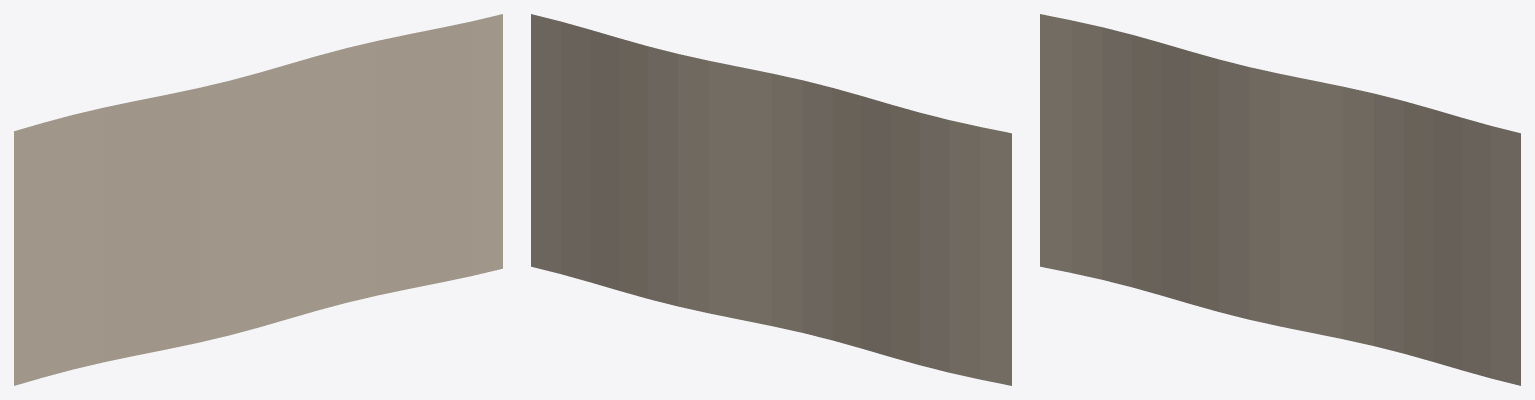
File: muro_LOD2.glb
3 views of the same model, side by side, from view 1: azimuth 30°, elevation 25°; view 2: azimuth 150°, elevation 25°; view 3: azimuth 330°, elevation 25° (orthographic).
Visible parts, largest first — view 1: muro_LOD2; view 2: muro_LOD2; view 3: muro_LOD2.
Part boxes in pixels (<box>): muro_LOD2: <box>14,14,502,385</box>; muro_LOD2: <box>531,14,1011,385</box>; muro_LOD2: <box>1040,14,1520,385</box>.
Size of the model in its own units: 4 by 2 by 0.0591.
